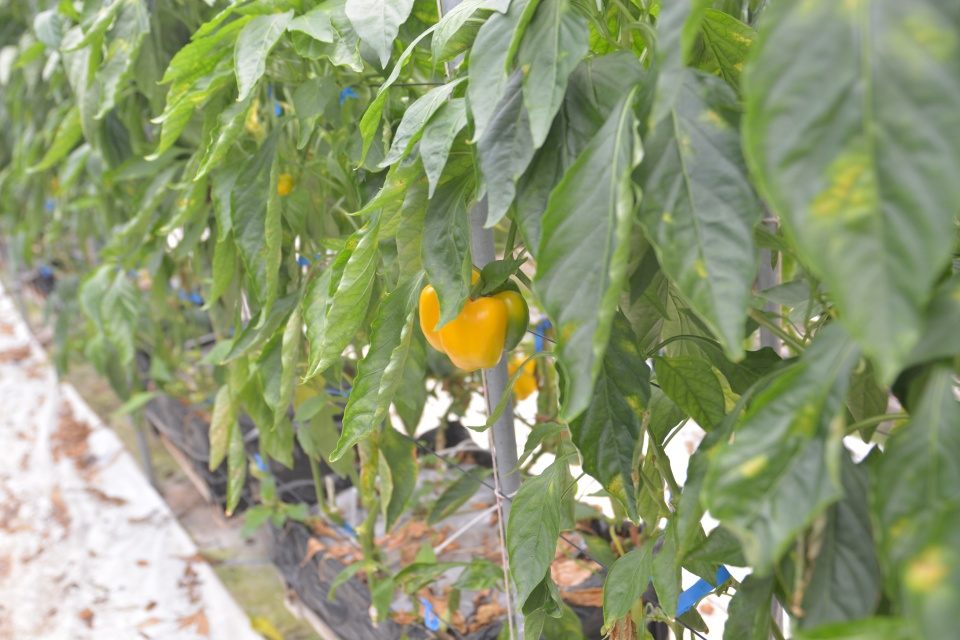fruit: (416, 264, 531, 374), (506, 350, 540, 402)
pedicle: (468, 283, 494, 301)
